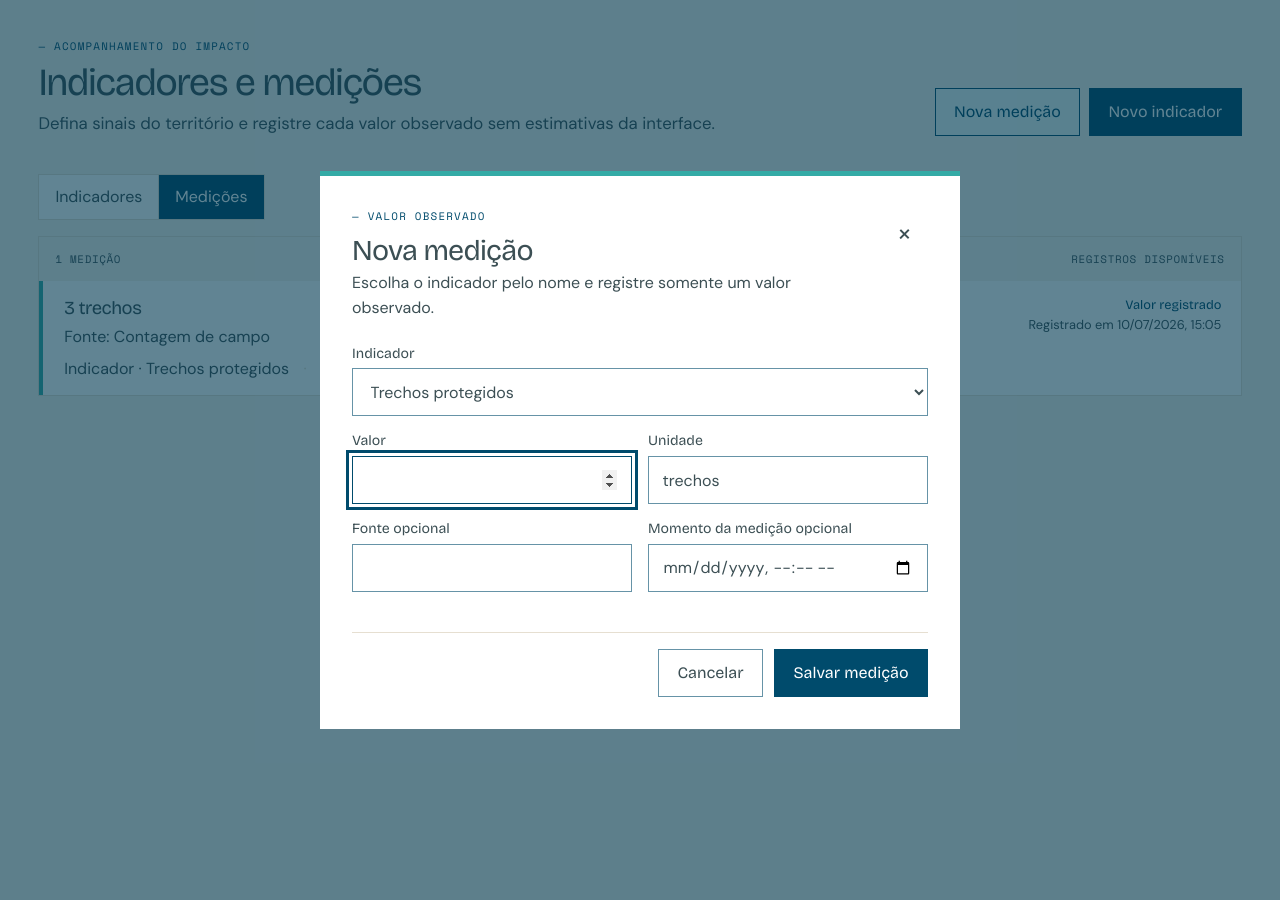
ImpactoPage › creates a measurement with the indicator selected by name and its real unit
Expected: the dialog "Nova medição" is shown, [320,171,960,729]
Expected: the dropdown labelled "Indicador" shows "Trechos protegidos", [352,368,928,416]
Type "3" into the number field labelled "Valor". click: (492, 480)
box: [352,456,632,504]
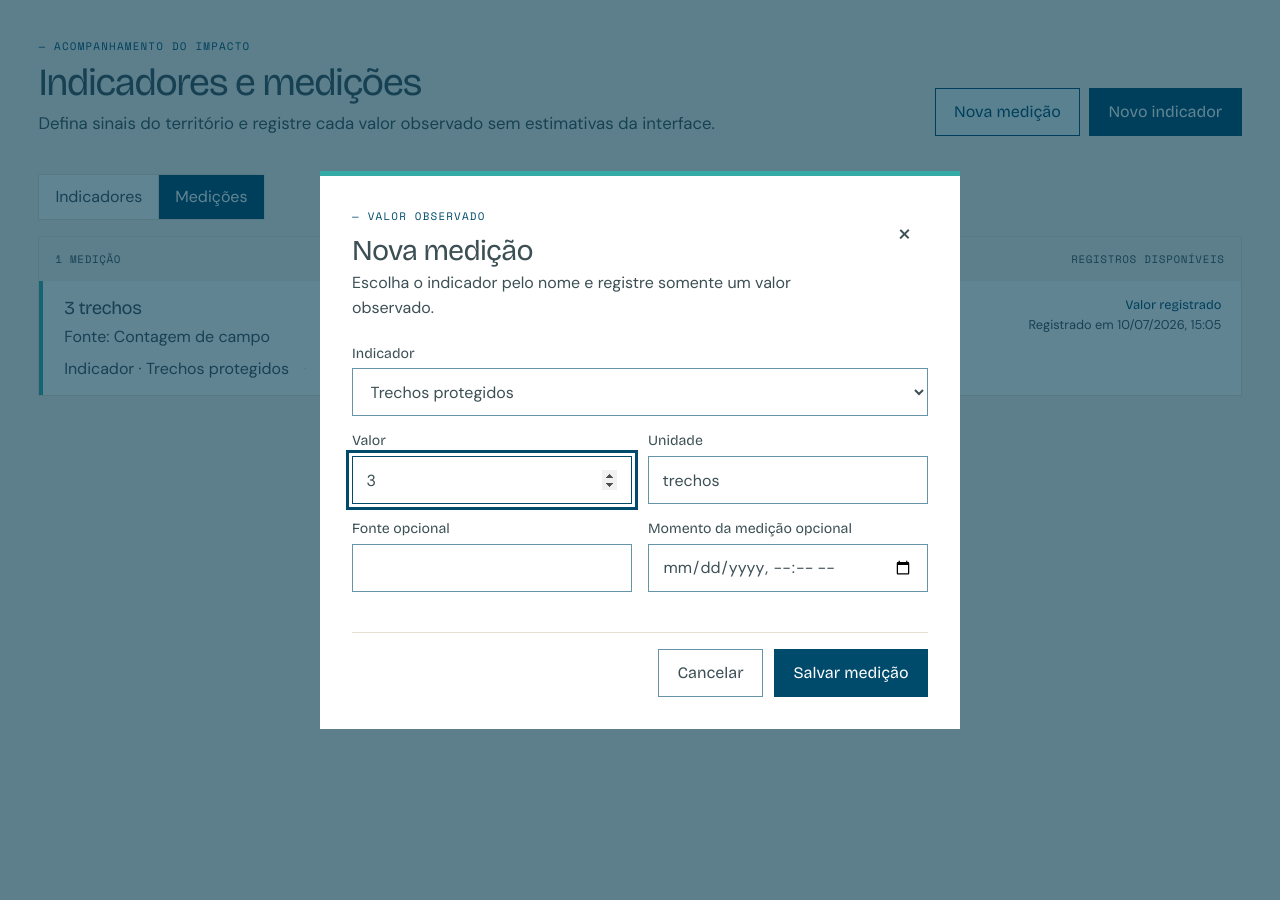
Click the button "Salvar medição". click: (851, 673)
box: [774,649,928,697]
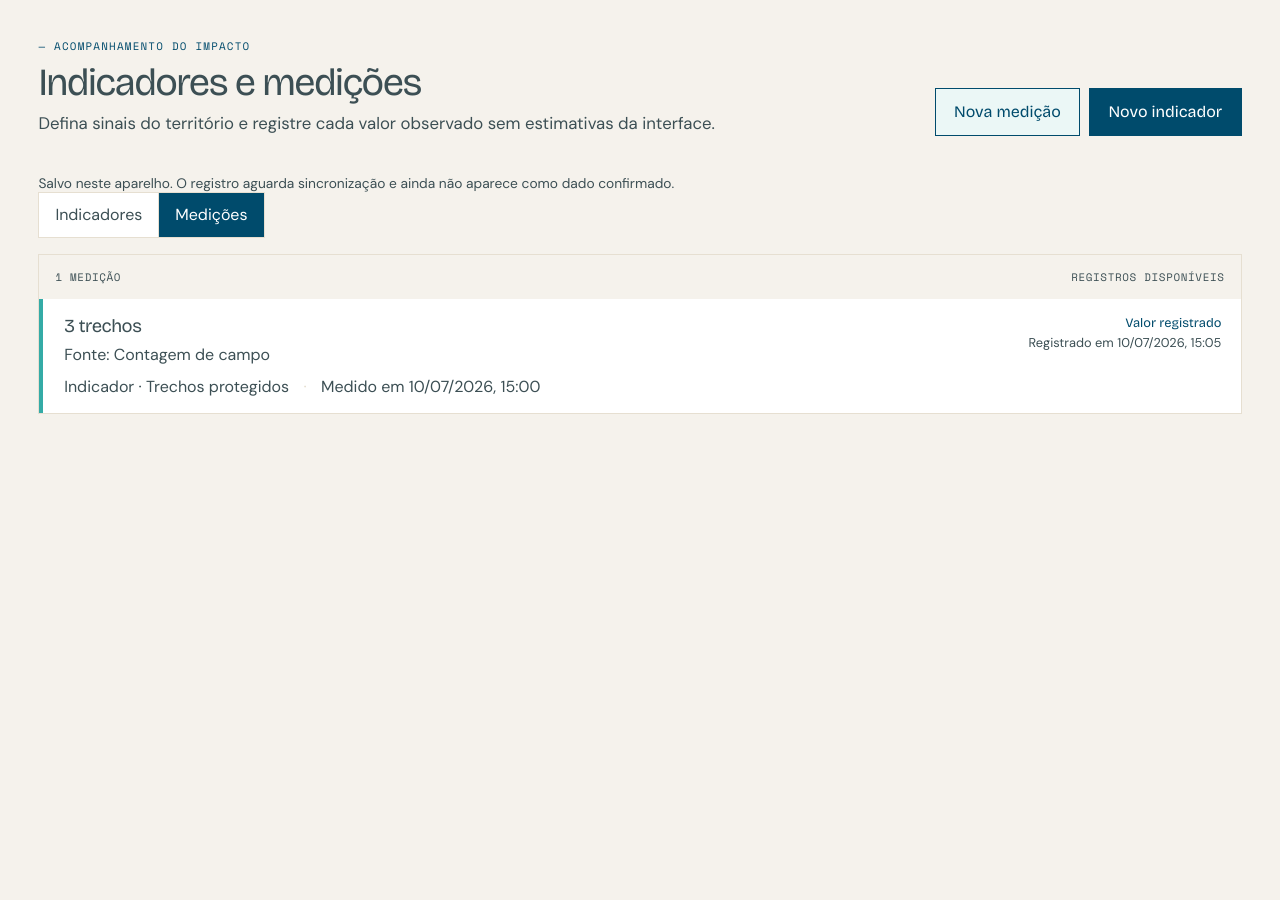
Expected: the message shows "Salvo neste aparelho", [38,174,674,192]
